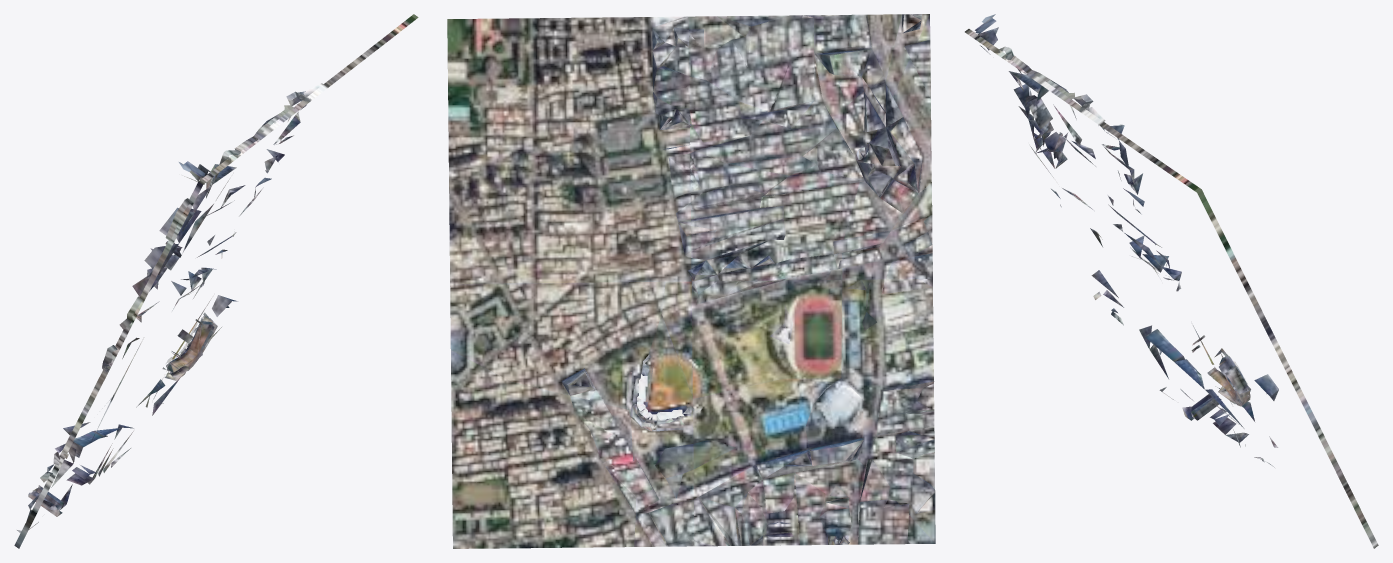
The picture shows the model from 3 angles, left to right: view 1: azimuth 30°, elevation 25°; view 2: azimuth 150°, elevation 25°; view 3: azimuth 270°, elevation 25°; orthographic projection. The views are drawn at different scales.
Size of the model in its own units: 1222 by 1145 by 1031.
Materials: 1 (1 with a texture image).
